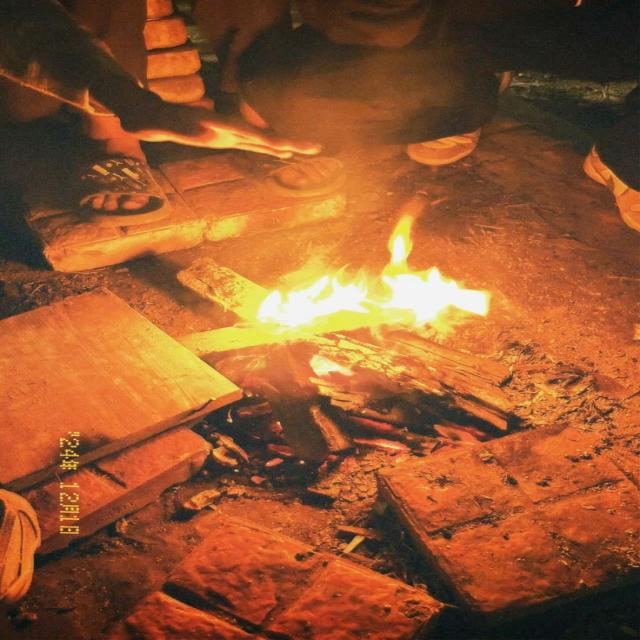fire: (255, 266, 370, 327), (383, 267, 490, 325)
